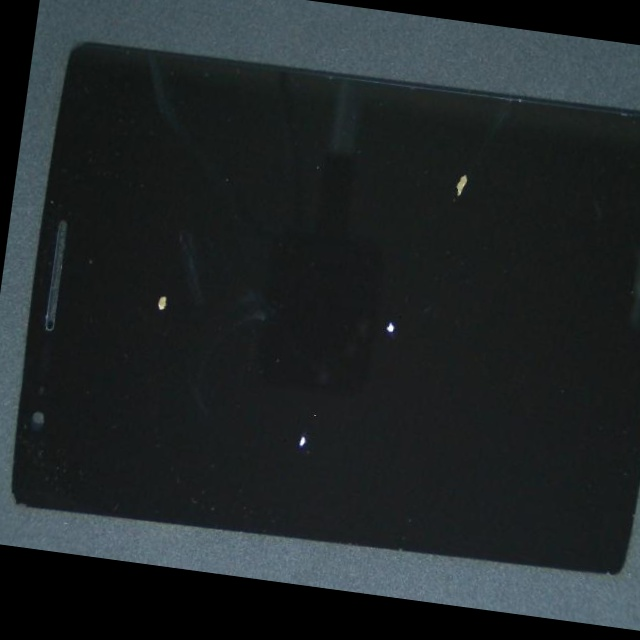stain: (141, 140, 603, 529), (92, 199, 480, 603), (199, 66, 640, 326), (72, 95, 255, 453)
